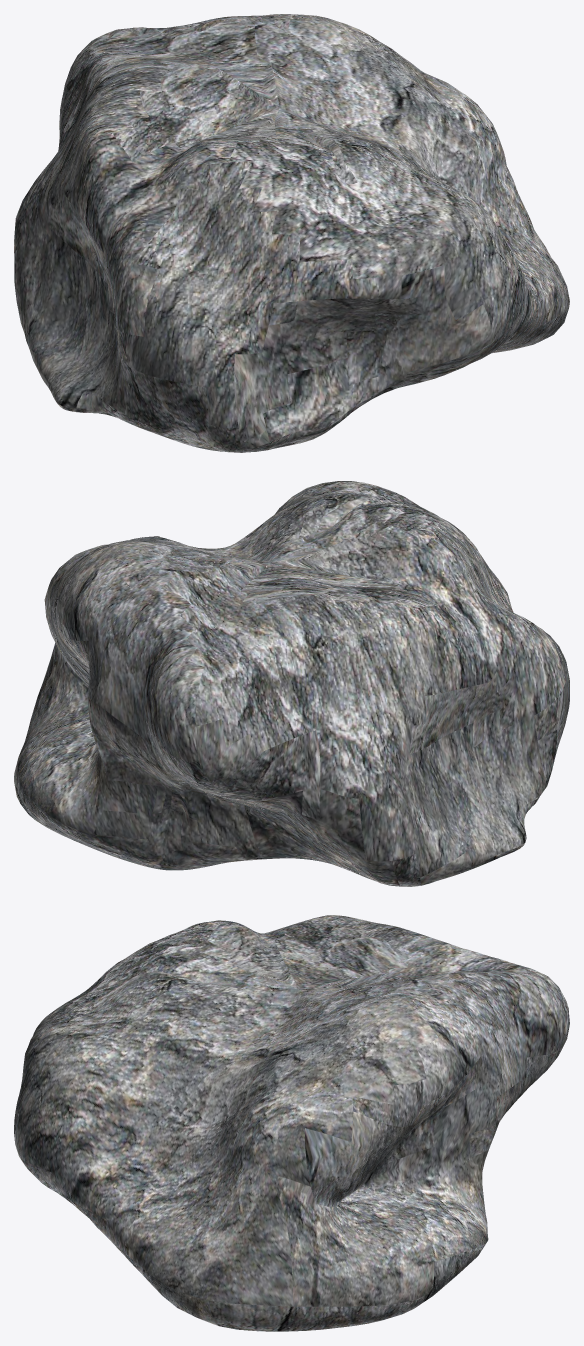
File: rock3.fbx
The picture shows the model from 3 angles, top to bottom: view 1: azimuth 30°, elevation 25°; view 2: azimuth 150°, elevation 25°; view 3: azimuth 270°, elevation 25°; orthographic projection. The views are drawn at different scales.
Parts seen in each view (by area): view 1: pCylinder1; view 2: pCylinder1; view 3: pCylinder1.
Part boxes in pixels (box(x1,y1,x2,y2)): pCylinder1: box(14, 14, 569, 452); pCylinder1: box(14, 481, 569, 886); pCylinder1: box(14, 915, 569, 1331).
Size of the model in its own units: 9.71 by 5.77 by 10.32.
Materials: 1 (1 with a texture image).
